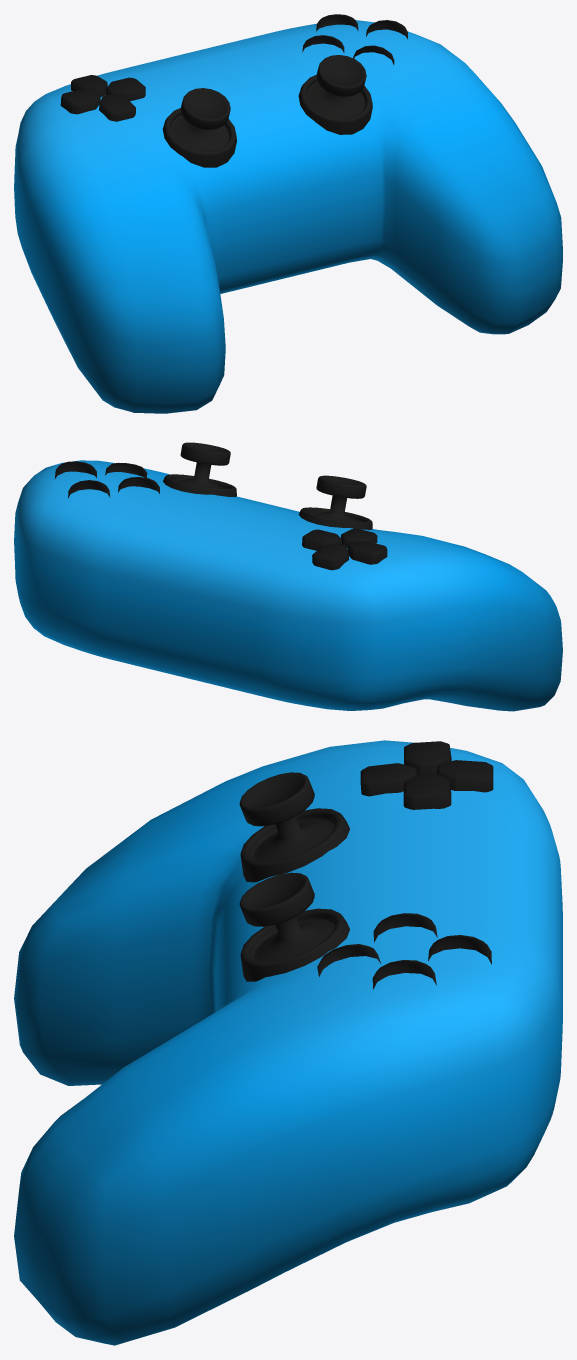
The model's file is collectable_Game_Controller_01.fbx.
3 views of the same model, one above another, from view 1: azimuth 30°, elevation 25°; view 2: azimuth 150°, elevation 25°; view 3: azimuth 270°, elevation 25° (orthographic). The views are drawn at different scales.
Visible parts, largest first — view 1: collectable_Game_Controller_01; view 2: collectable_Game_Controller_01; view 3: collectable_Game_Controller_01.
Boxes of the visible parts, left/top/right/bottom form: collectable_Game_Controller_01: left=14, top=14, right=562, bottom=413; collectable_Game_Controller_01: left=14, top=442, right=562, bottom=711; collectable_Game_Controller_01: left=14, top=740, right=562, bottom=1345.
Size of the model in its own units: 91.38 by 44.92 by 60.74.
Materials: 1 (1 with a texture image).
